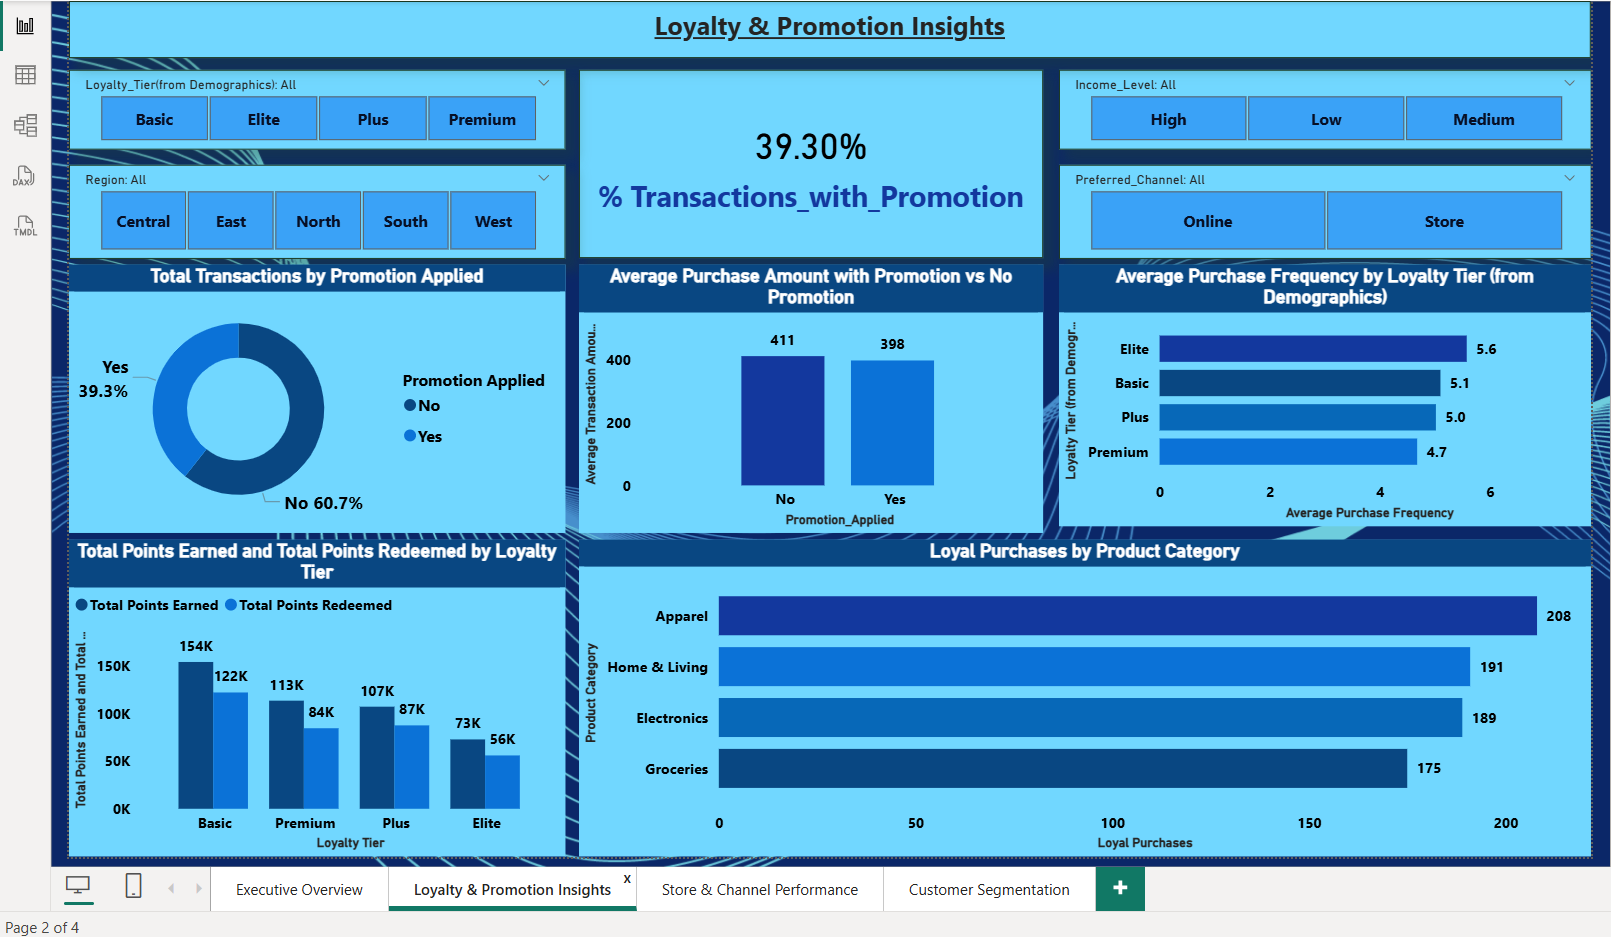

Layout of this report page (visuals, bound fields, positions):
{"tool":"powerbi","page":{"name":"Loyalty & Promotion Insights","canvas":[1280,720],"ordinal":1},"visuals":[{"type":"card","fields":{"Values":["Measures_Table.% Transactions_with_Promotion"]},"box":[429.1,58.1,390.7,158.1],"z":0},{"type":"slicer","fields":{"Values":["Customer_Demographics.Loyalty_Tier(from Demographics)"]},"box":[0,58.1,417.4,67.4],"z":1000},{"type":"slicer","fields":{"Values":["Customer_Demographics.Income_Level"]},"box":[832.6,58.1,447.7,67.4],"z":2000},{"type":"slicer","fields":{"Values":["Customer_Demographics.Preferred_Channel"]},"box":[832.6,137.2,447.7,79.1],"z":3000},{"type":"slicer","fields":{"Values":["Customer_Demographics.Region"]},"box":[0,137.2,417.4,79.1],"z":4000},{"type":"textbox","box":[0,0,1280.2,47.7],"z":5000},{"type":"clusteredColumnChart","title":"Average Purchase Amount with Promotion vs No Promotion","fields":{"Category":["Customer_Transactions.Promotion_Applied"],"Y":["Measures_Table.Avg_Transaction_Amount"]},"box":[429.1,222.1,390.7,225.6],"z":6000},{"type":"clusteredBarChart","fields":{"Y":["Measures_Table.Loyal_Purchases"],"Category":["Customer_Transactions.Product_Category"]},"box":[429.1,453.5,851.2,266.3],"z":7000},{"type":"clusteredBarChart","fields":{"Y":["Measures_Table.Avg.Purchase_Frequency"],"Category":["Customer_Demographics.Loyalty_Tier(from Demographics)"]},"box":[832.6,222.1,447.7,219.8],"z":8000},{"type":"clusteredColumnChart","fields":{"Category":["Loyalty_Program.Loyalty_Tier"],"Y":["Measures_Table.Total_Points_Earned","Measures_Table.Total_Points_Redeemed"]},"box":[0,453.5,417.4,266.3],"z":9000},{"type":"donutChart","fields":{"Y":["Measures_Table.Total_Transactions"],"Category":["Customer_Transactions.Promotion_Applied"]},"box":[0,222.1,417.4,225.6],"z":10000}]}

Visuals, with their boxes in screenshot pixels (x1, y1, x2, y2):
card - Measures_Table.% Transactions_with_Promotion: x1=577 y1=65 x2=1044 y2=255
slicer - Customer_Demographics.Loyalty_Tier(from Demographics): x1=63 y1=65 x2=563 y2=146
slicer - Customer_Demographics.Income_Level: x1=1060 y1=65 x2=1596 y2=146
slicer - Customer_Demographics.Preferred_Channel: x1=1060 y1=160 x2=1596 y2=255
slicer - Customer_Demographics.Region: x1=63 y1=160 x2=563 y2=255
textbox: x1=63 y1=0 x2=1596 y2=53
"Average Purchase Amount with Promotion vs No Promotion" clusteredColumnChart: x1=577 y1=262 x2=1044 y2=532
clusteredBarChart - Measures_Table.Loyal_Purchases x Customer_Transactions.Product_Category: x1=577 y1=539 x2=1596 y2=858
clusteredBarChart - Measures_Table.Avg.Purchase_Frequency x Customer_Demographics.Loyalty_Tier(from Demographics): x1=1060 y1=262 x2=1596 y2=525
clusteredColumnChart - Loyalty_Program.Loyalty_Tier x Measures_Table.Total_Points_Earned: x1=63 y1=539 x2=563 y2=858
donutChart - Measures_Table.Total_Transactions x Customer_Transactions.Promotion_Applied: x1=63 y1=262 x2=563 y2=532
